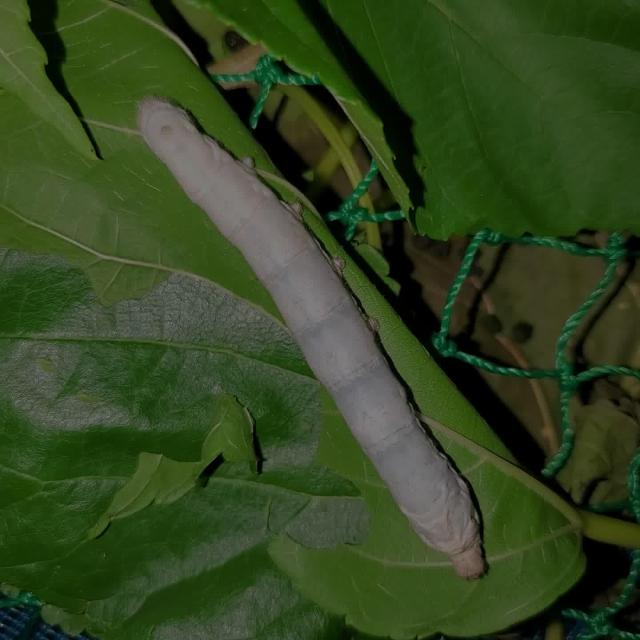Healthy: (129, 78, 493, 584)
